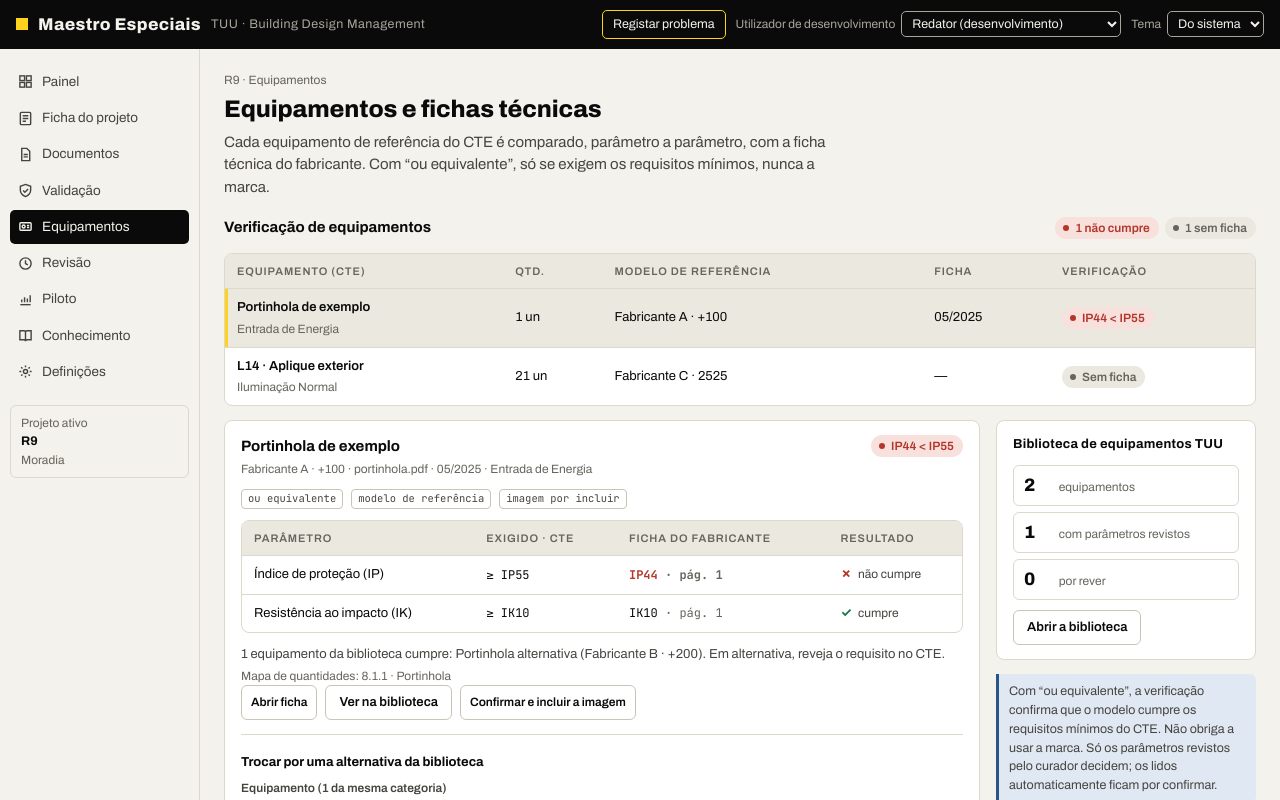
Test: equipment (screen F) › selects another row and keeps it in the address
Click the button "L14 · Aplique exterior" at coordinates (300, 367), box left=237, top=357, right=364, bottom=376
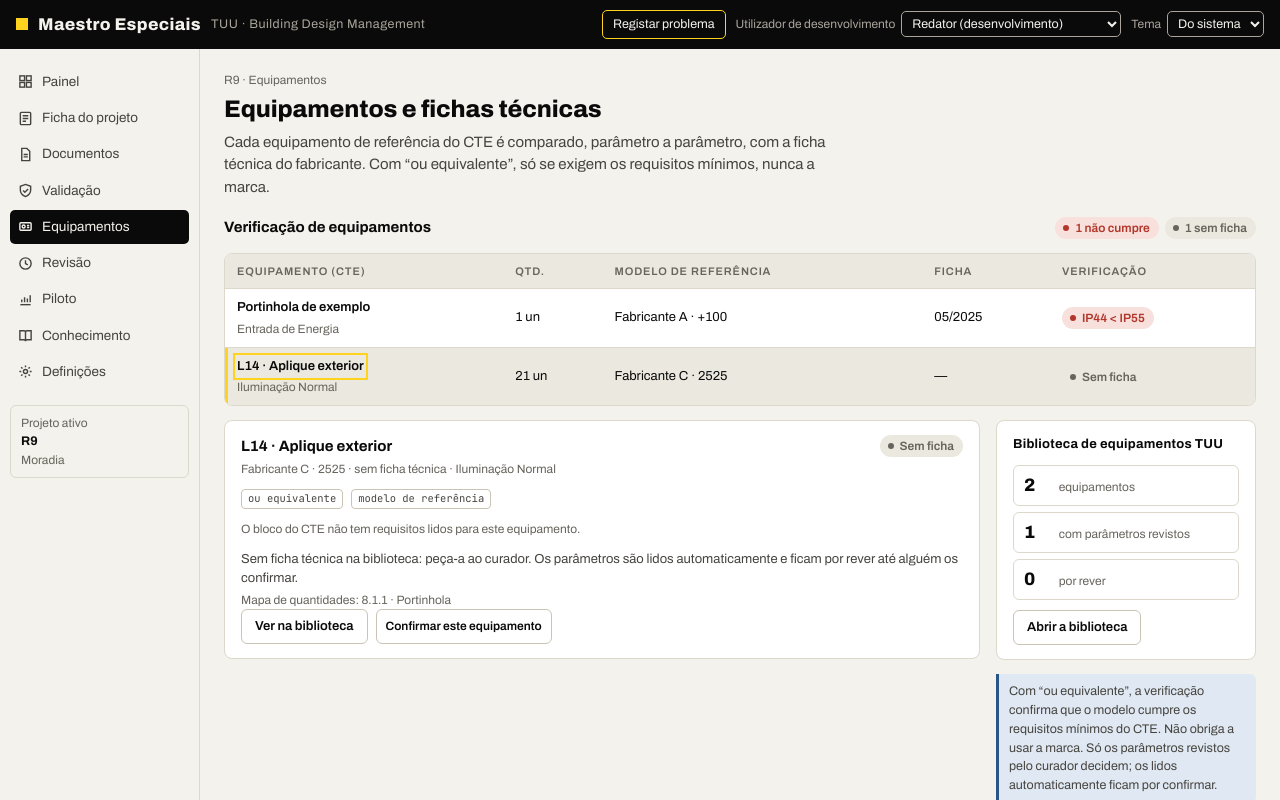
Check: the heading "L14 · Aplique exterior" is shown, box left=241, top=438, right=392, bottom=454
Check: the text "Sem ficha técnica na biblioteca: peça-a ao curador" is shown, box left=241, top=552, right=958, bottom=585
